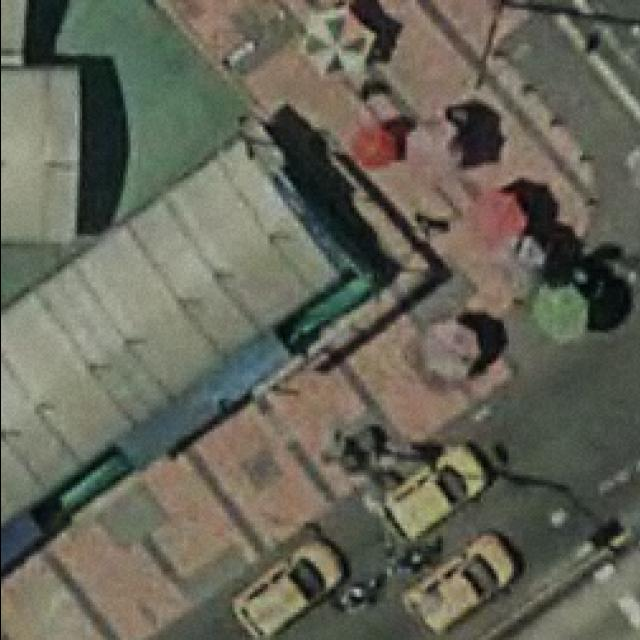vendedor_ambulante: (298, 2, 377, 81), (414, 315, 489, 386), (462, 187, 534, 257), (528, 276, 594, 344), (404, 115, 464, 173), (346, 120, 404, 172)
